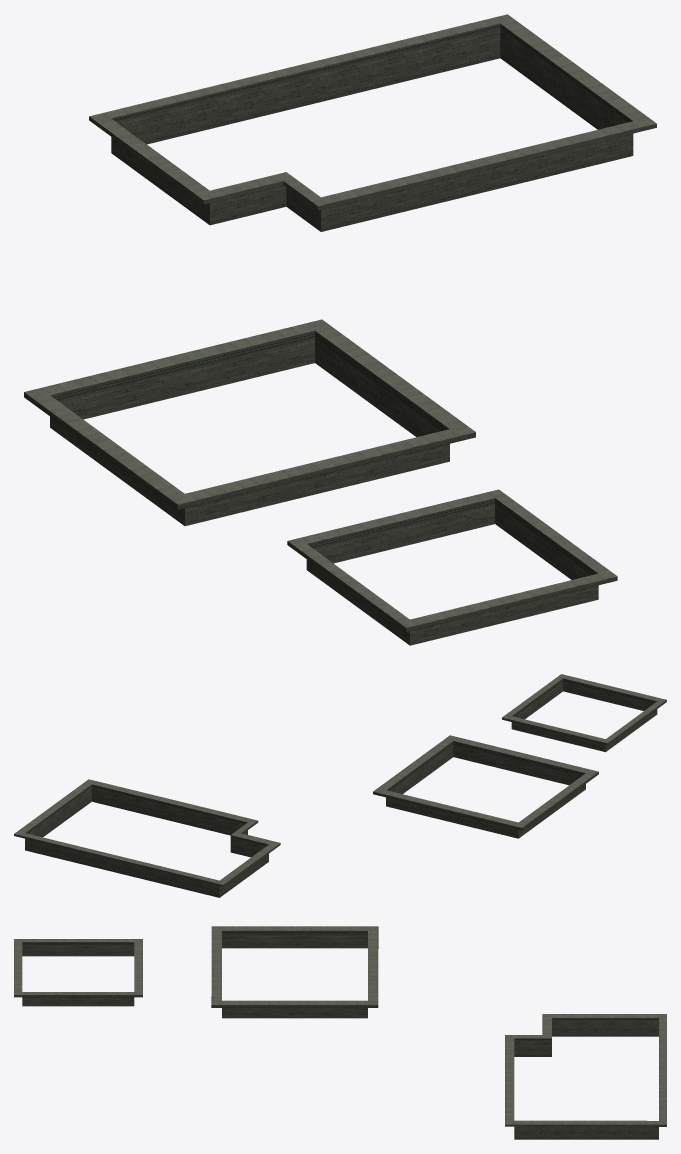
File: s7_unioncity_chibian_03.FBX
The picture shows the model from 3 angles, top to bottom: view 1: azimuth 30°, elevation 25°; view 2: azimuth 150°, elevation 25°; view 3: azimuth 270°, elevation 25°; orthographic projection. The views are drawn at different scales.
Parts seen in each view (by area): view 1: Object01; view 2: Object01; view 3: Object01.
Part boxes in pixels (x1,y1,x2,y2): Object01: (24,14,656,645); Object01: (14,674,666,897); Object01: (14,926,666,1139).
Bounding box in the file's own units: 152 × 6.75 × 211.
1 material, 1 textured.
